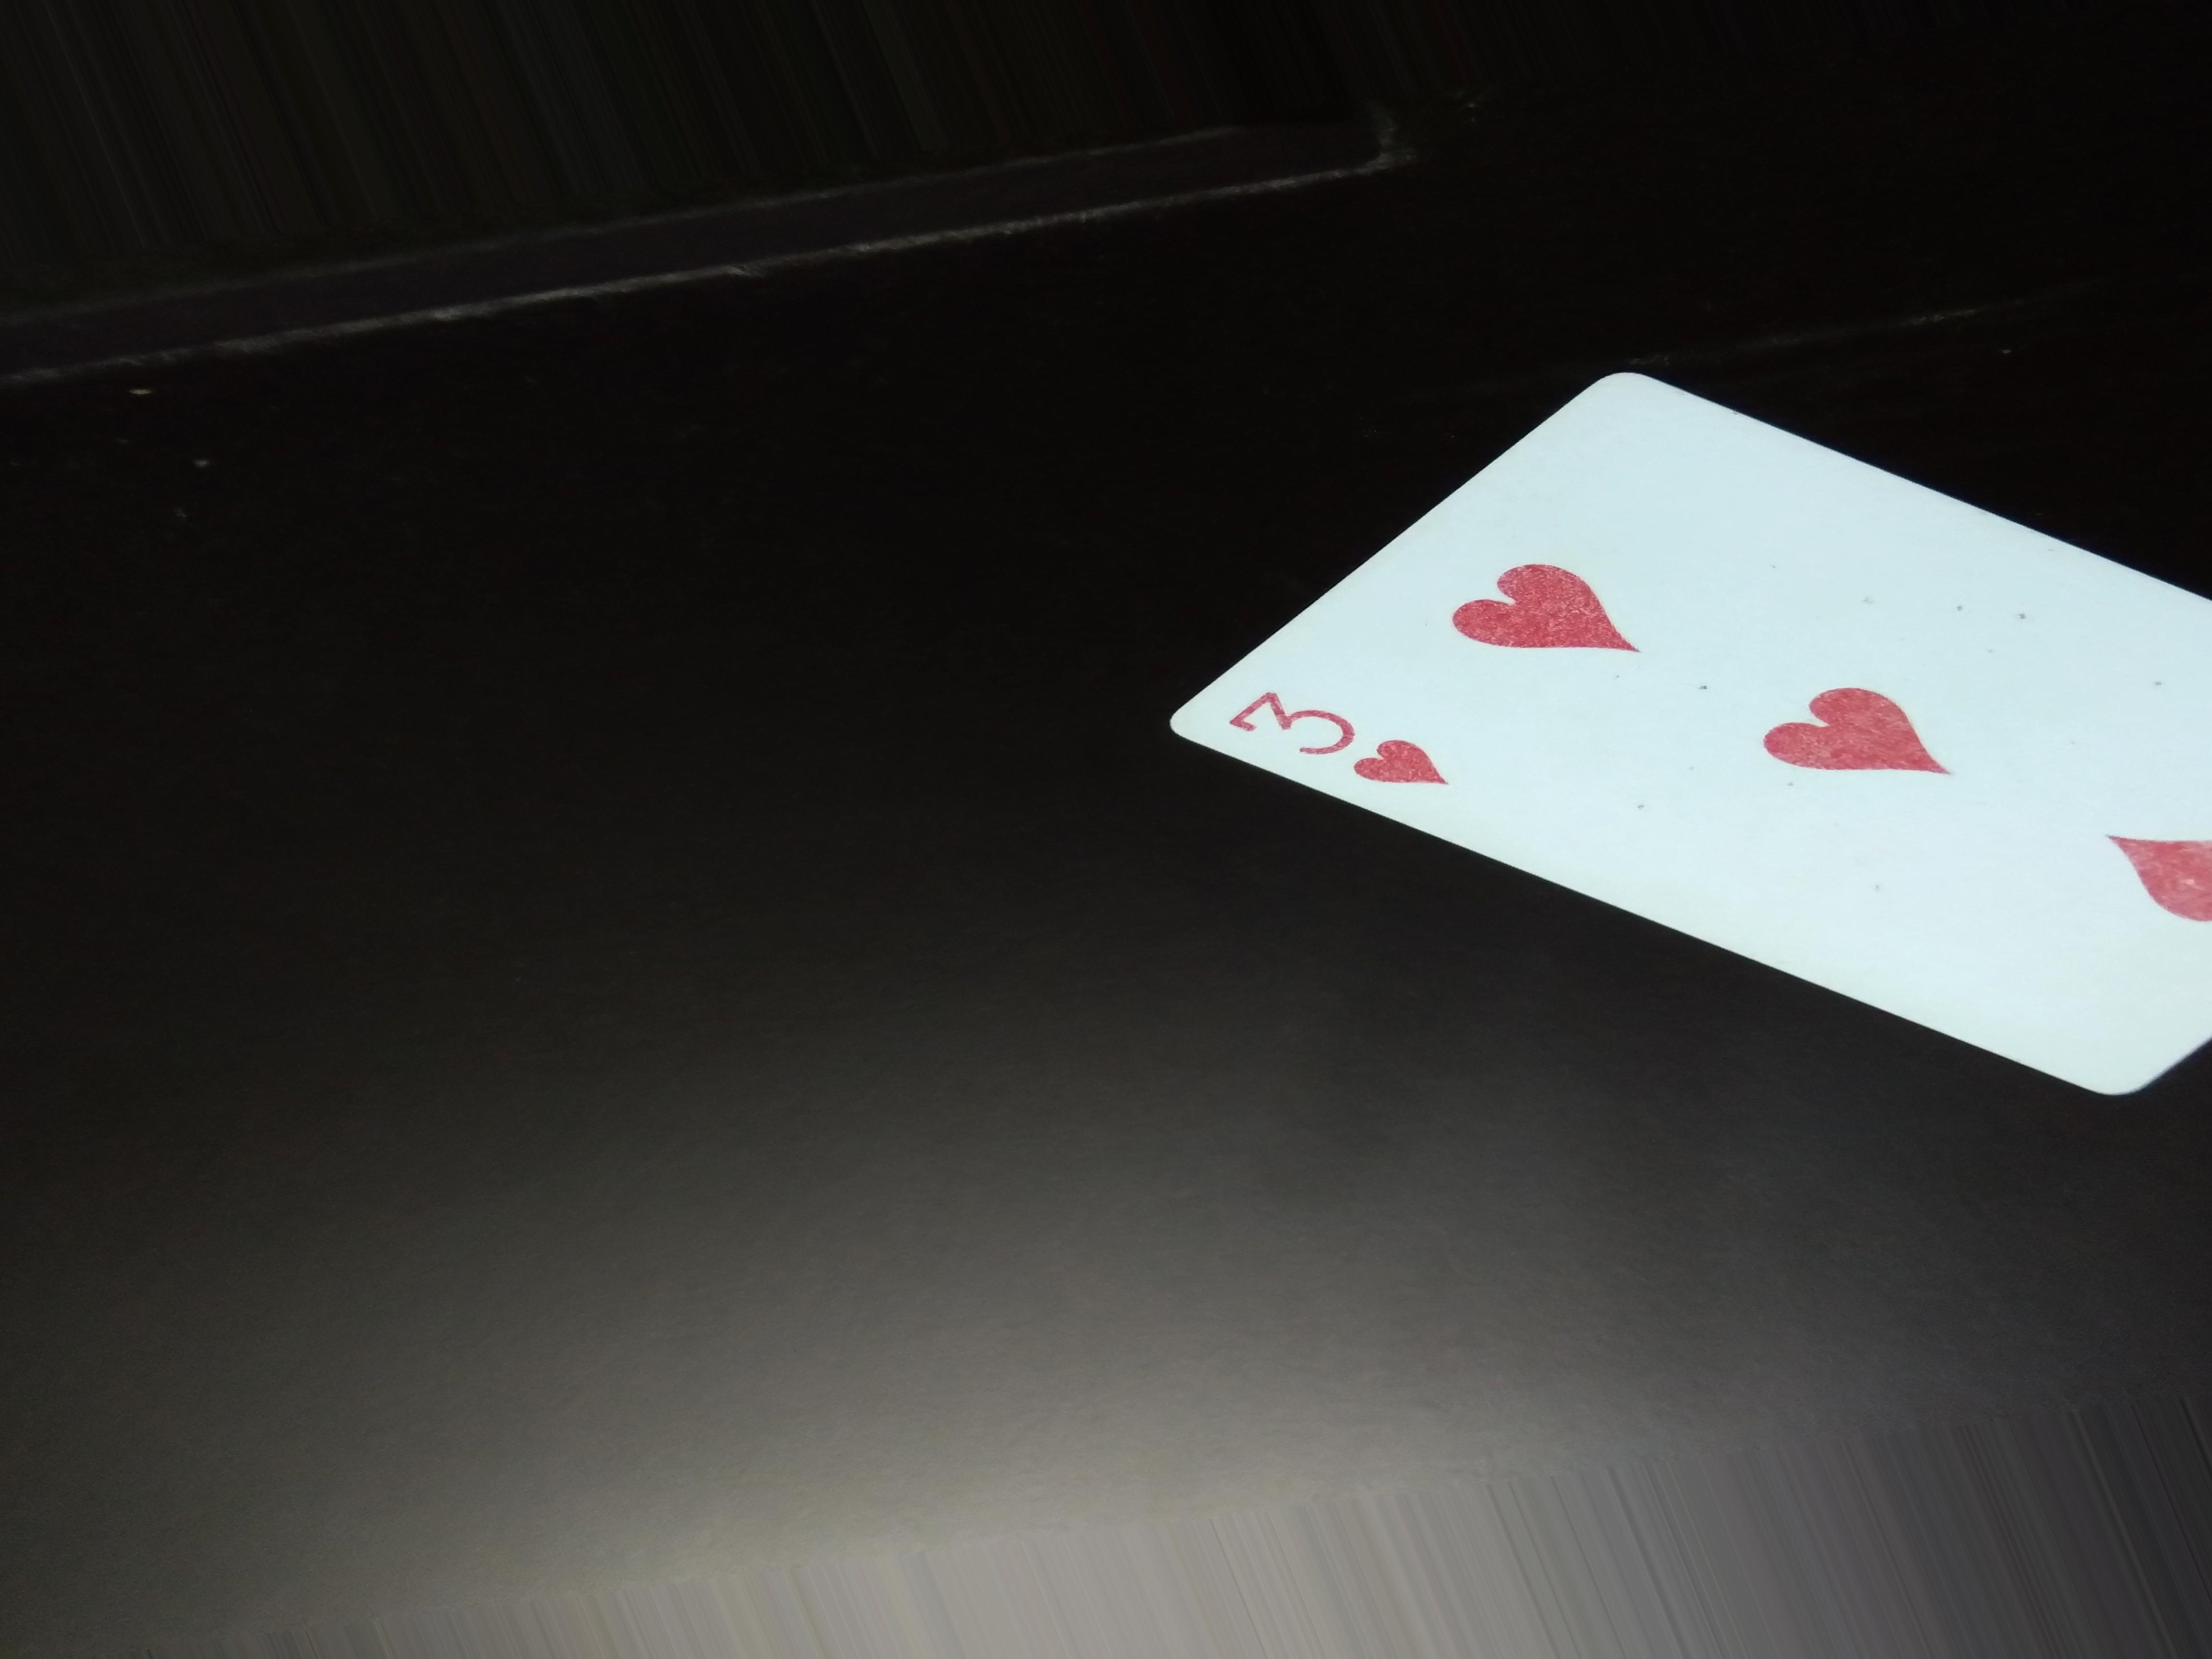3H: (1224, 676, 1456, 795)
